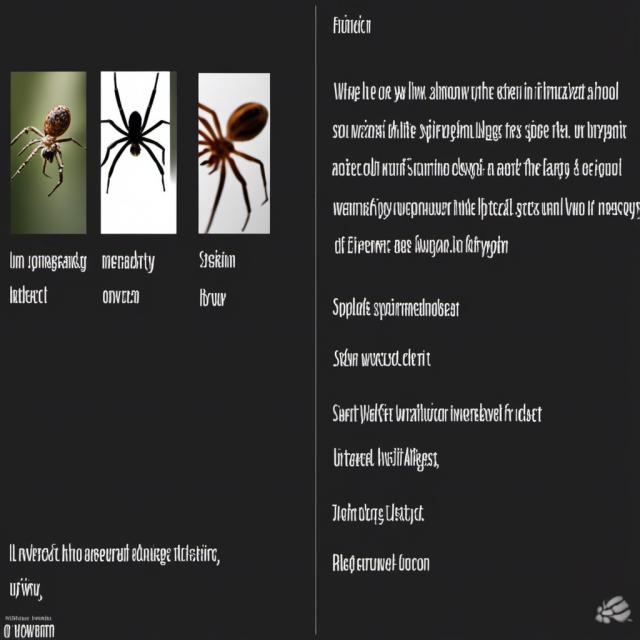spider: (90, 69, 177, 208), (194, 95, 269, 237), (5, 99, 85, 198)
